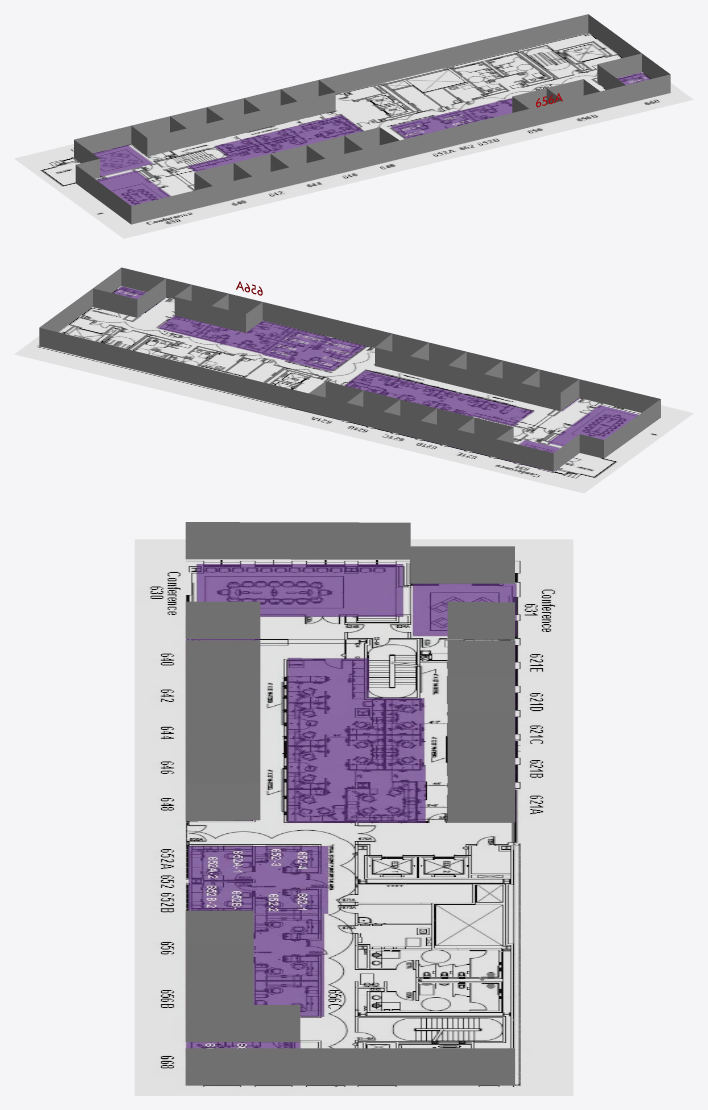
File: floorplan_6th.glb
The picture shows the model from 3 angles, top to bottom: view 1: azimuth 30°, elevation 25°; view 2: azimuth 150°, elevation 25°; view 3: azimuth 270°, elevation 25°; orthographic projection. The views are drawn at different scales.
Parts seen in each view (by area): view 1: sixthfloor, Plane; view 2: sixthfloor, Plane; view 3: sixthfloor, Plane.
Part boxes in pixels (box(x1,y1,x2,y2)): sixthfloor: box(14, 32, 693, 238); Plane: box(74, 14, 670, 224); sixthfloor: box(14, 286, 693, 493); Plane: box(39, 267, 660, 471); sixthfloor: box(134, 539, 573, 1095); Plane: box(185, 522, 514, 1085).
Size of the model in its own units: 9 by 0.4582 by 3.
3 materials, 1 textured.
